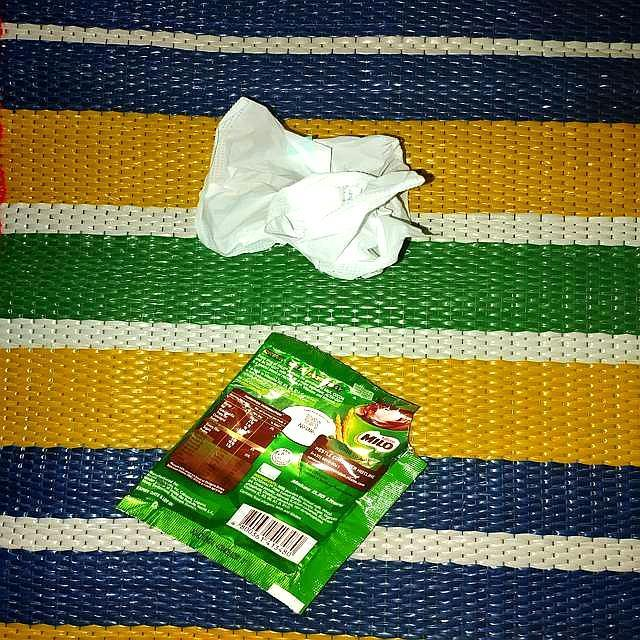Non-biodegradable: (112, 325, 461, 625), (194, 96, 431, 280)
